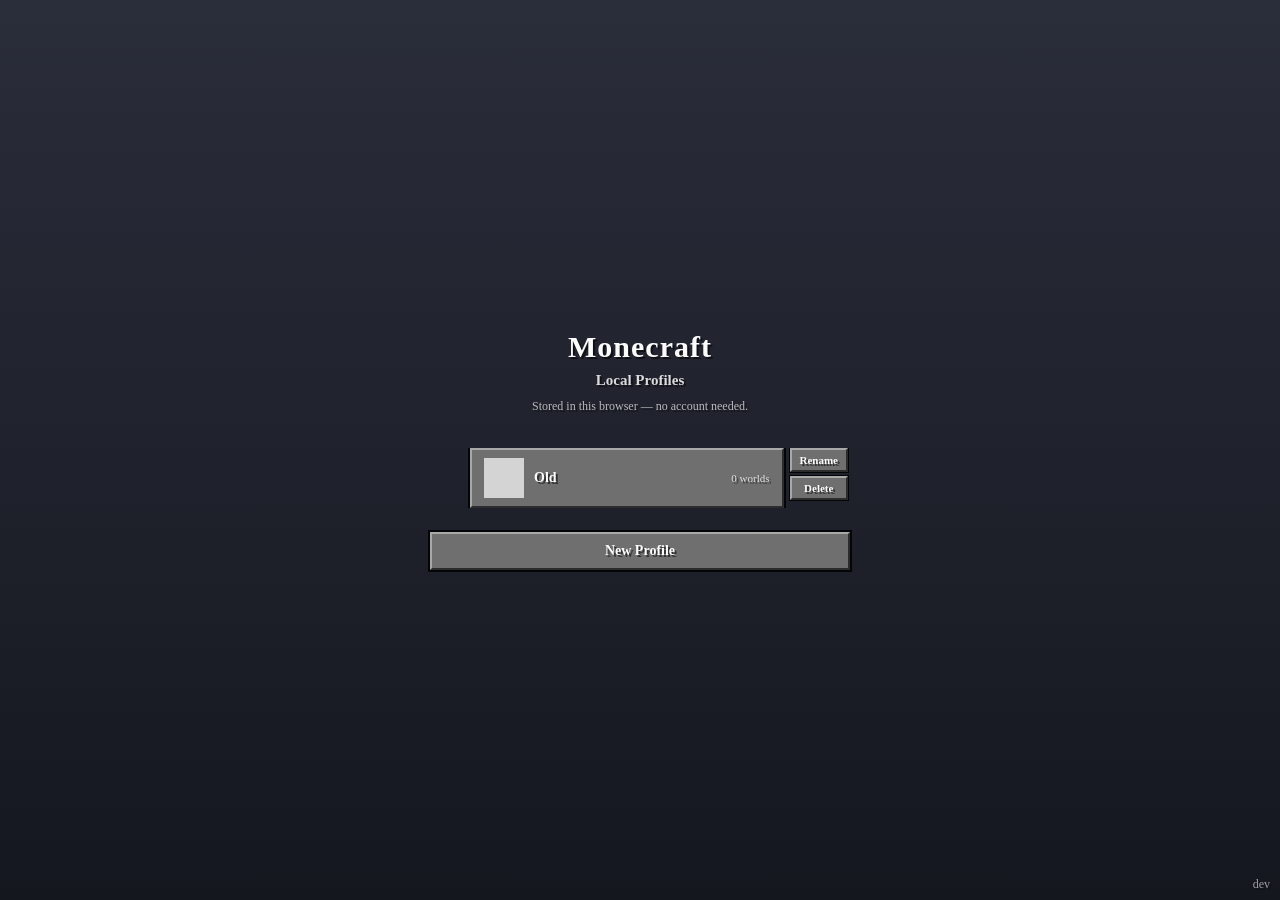
Scenario: ProfileSelect › renaming a profile updates the manifest
Click the button "Rename".
click(819, 460)  # box [790,448,848,472]
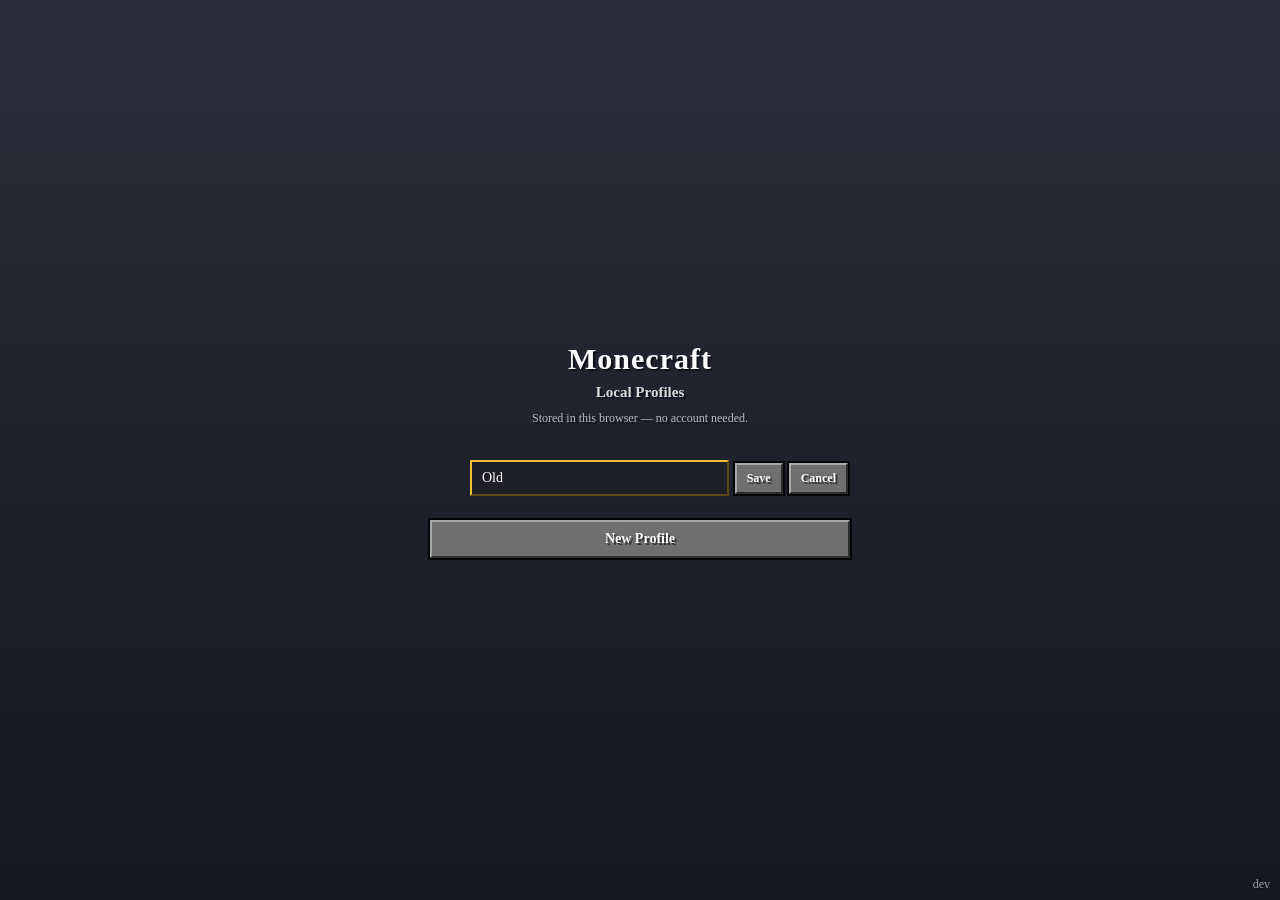
Replace the text in the field named "Rename profile" with "Fresh" at (599, 478), box [470,460,729,496]
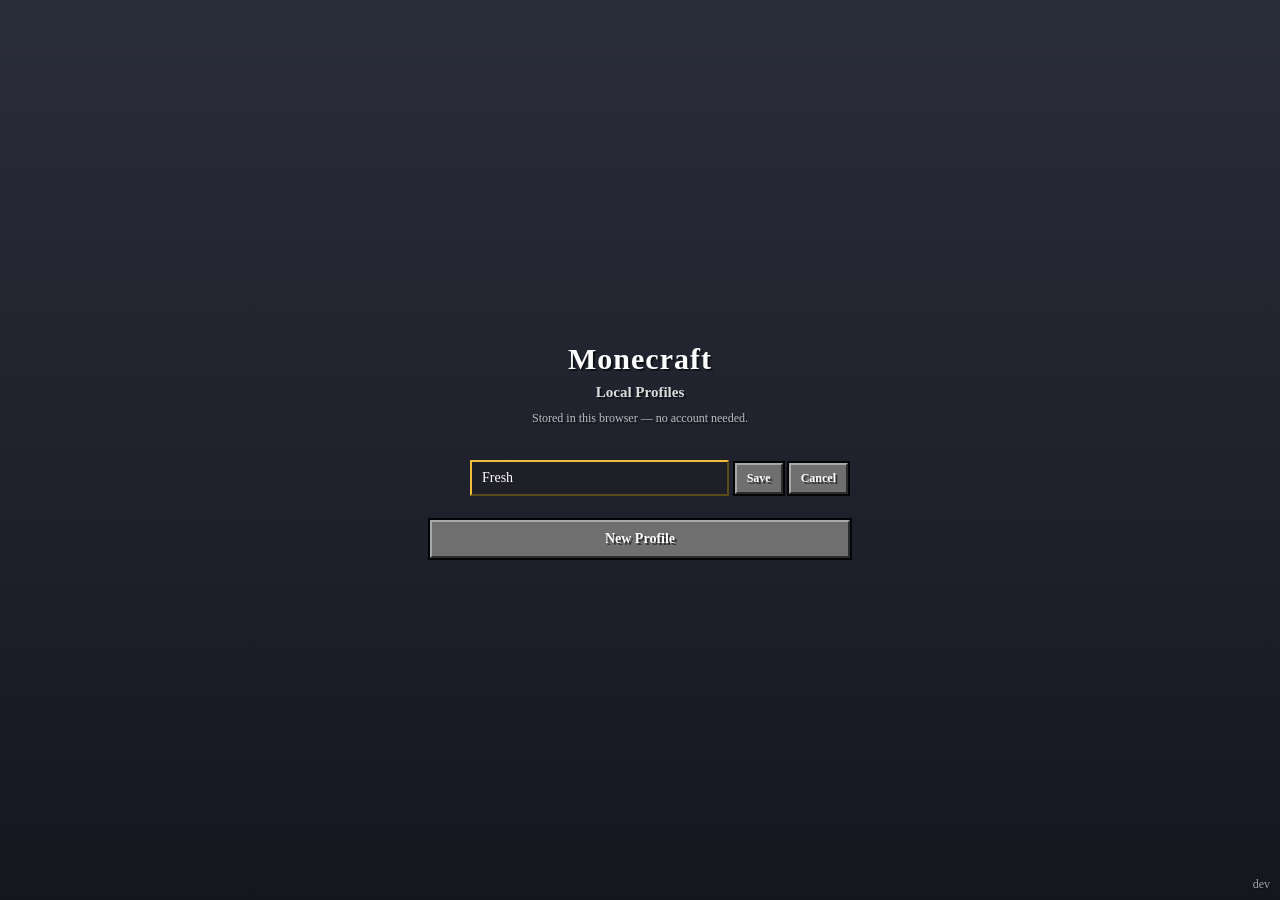
Click the button "Save".
click(759, 478)  # box [735,462,783,494]
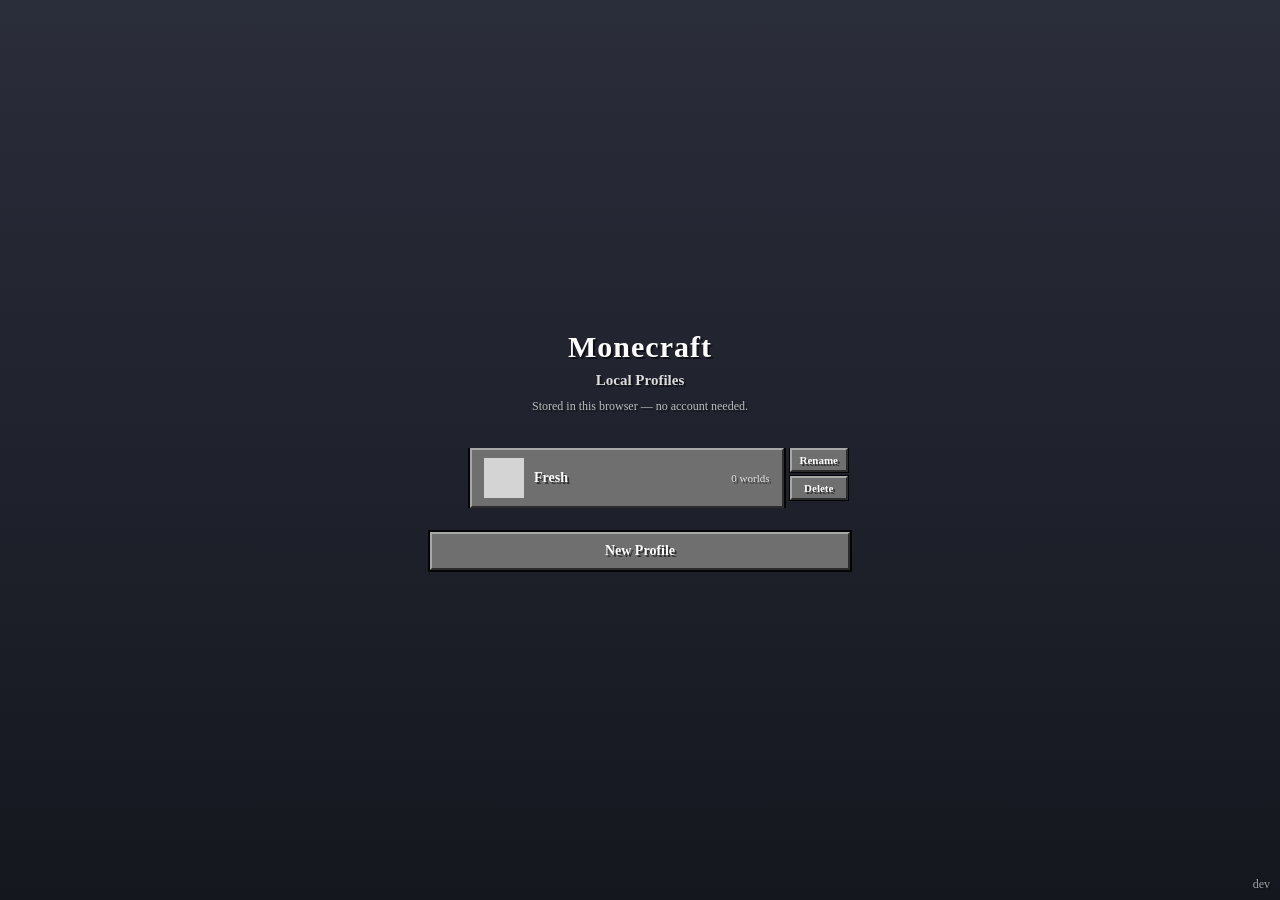
Expected: the text "Fresh" is shown, [534,470,568,486]
